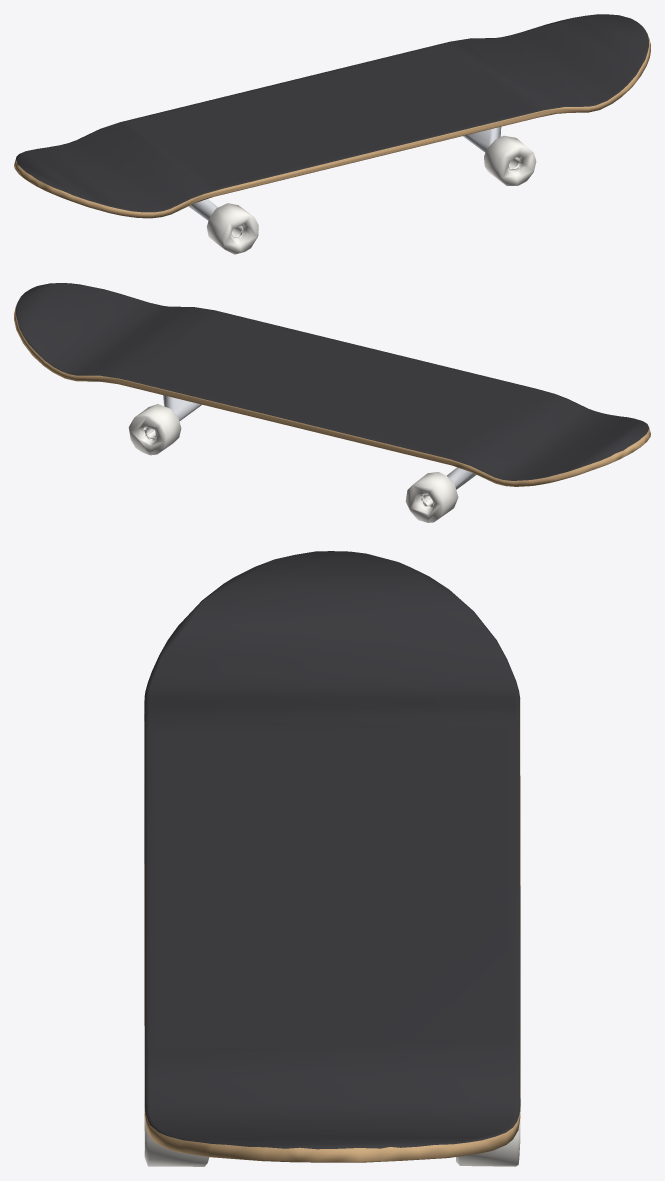
Rendered from board.glb.
3 renders of one model, top to bottom at view 1: azimuth 30°, elevation 25°; view 2: azimuth 150°, elevation 25°; view 3: azimuth 270°, elevation 25°, orthographic. The views are drawn at different scales.
Visible parts, largest first — view 1: BOARD_body, WHEEL_3, WHEEL_1; view 2: BOARD_body, WHEEL_4, WHEEL_2; view 3: BOARD_body, WHEEL_3, WHEEL_4.
Boxes of the visible parts, x1,y1,x2,y2 form: BOARD_body: (14,14,650,233); WHEEL_3: (484,135,536,185); WHEEL_1: (207,203,258,254); BOARD_body: (14,283,650,501); WHEEL_4: (128,404,181,455); WHEEL_2: (405,472,458,522); BOARD_body: (144,551,520,1162); WHEEL_3: (144,1113,208,1166); WHEEL_4: (456,1119,520,1166).
Bounding box in the file's own units: 0.2 × 0.0276 × 0.0529.
